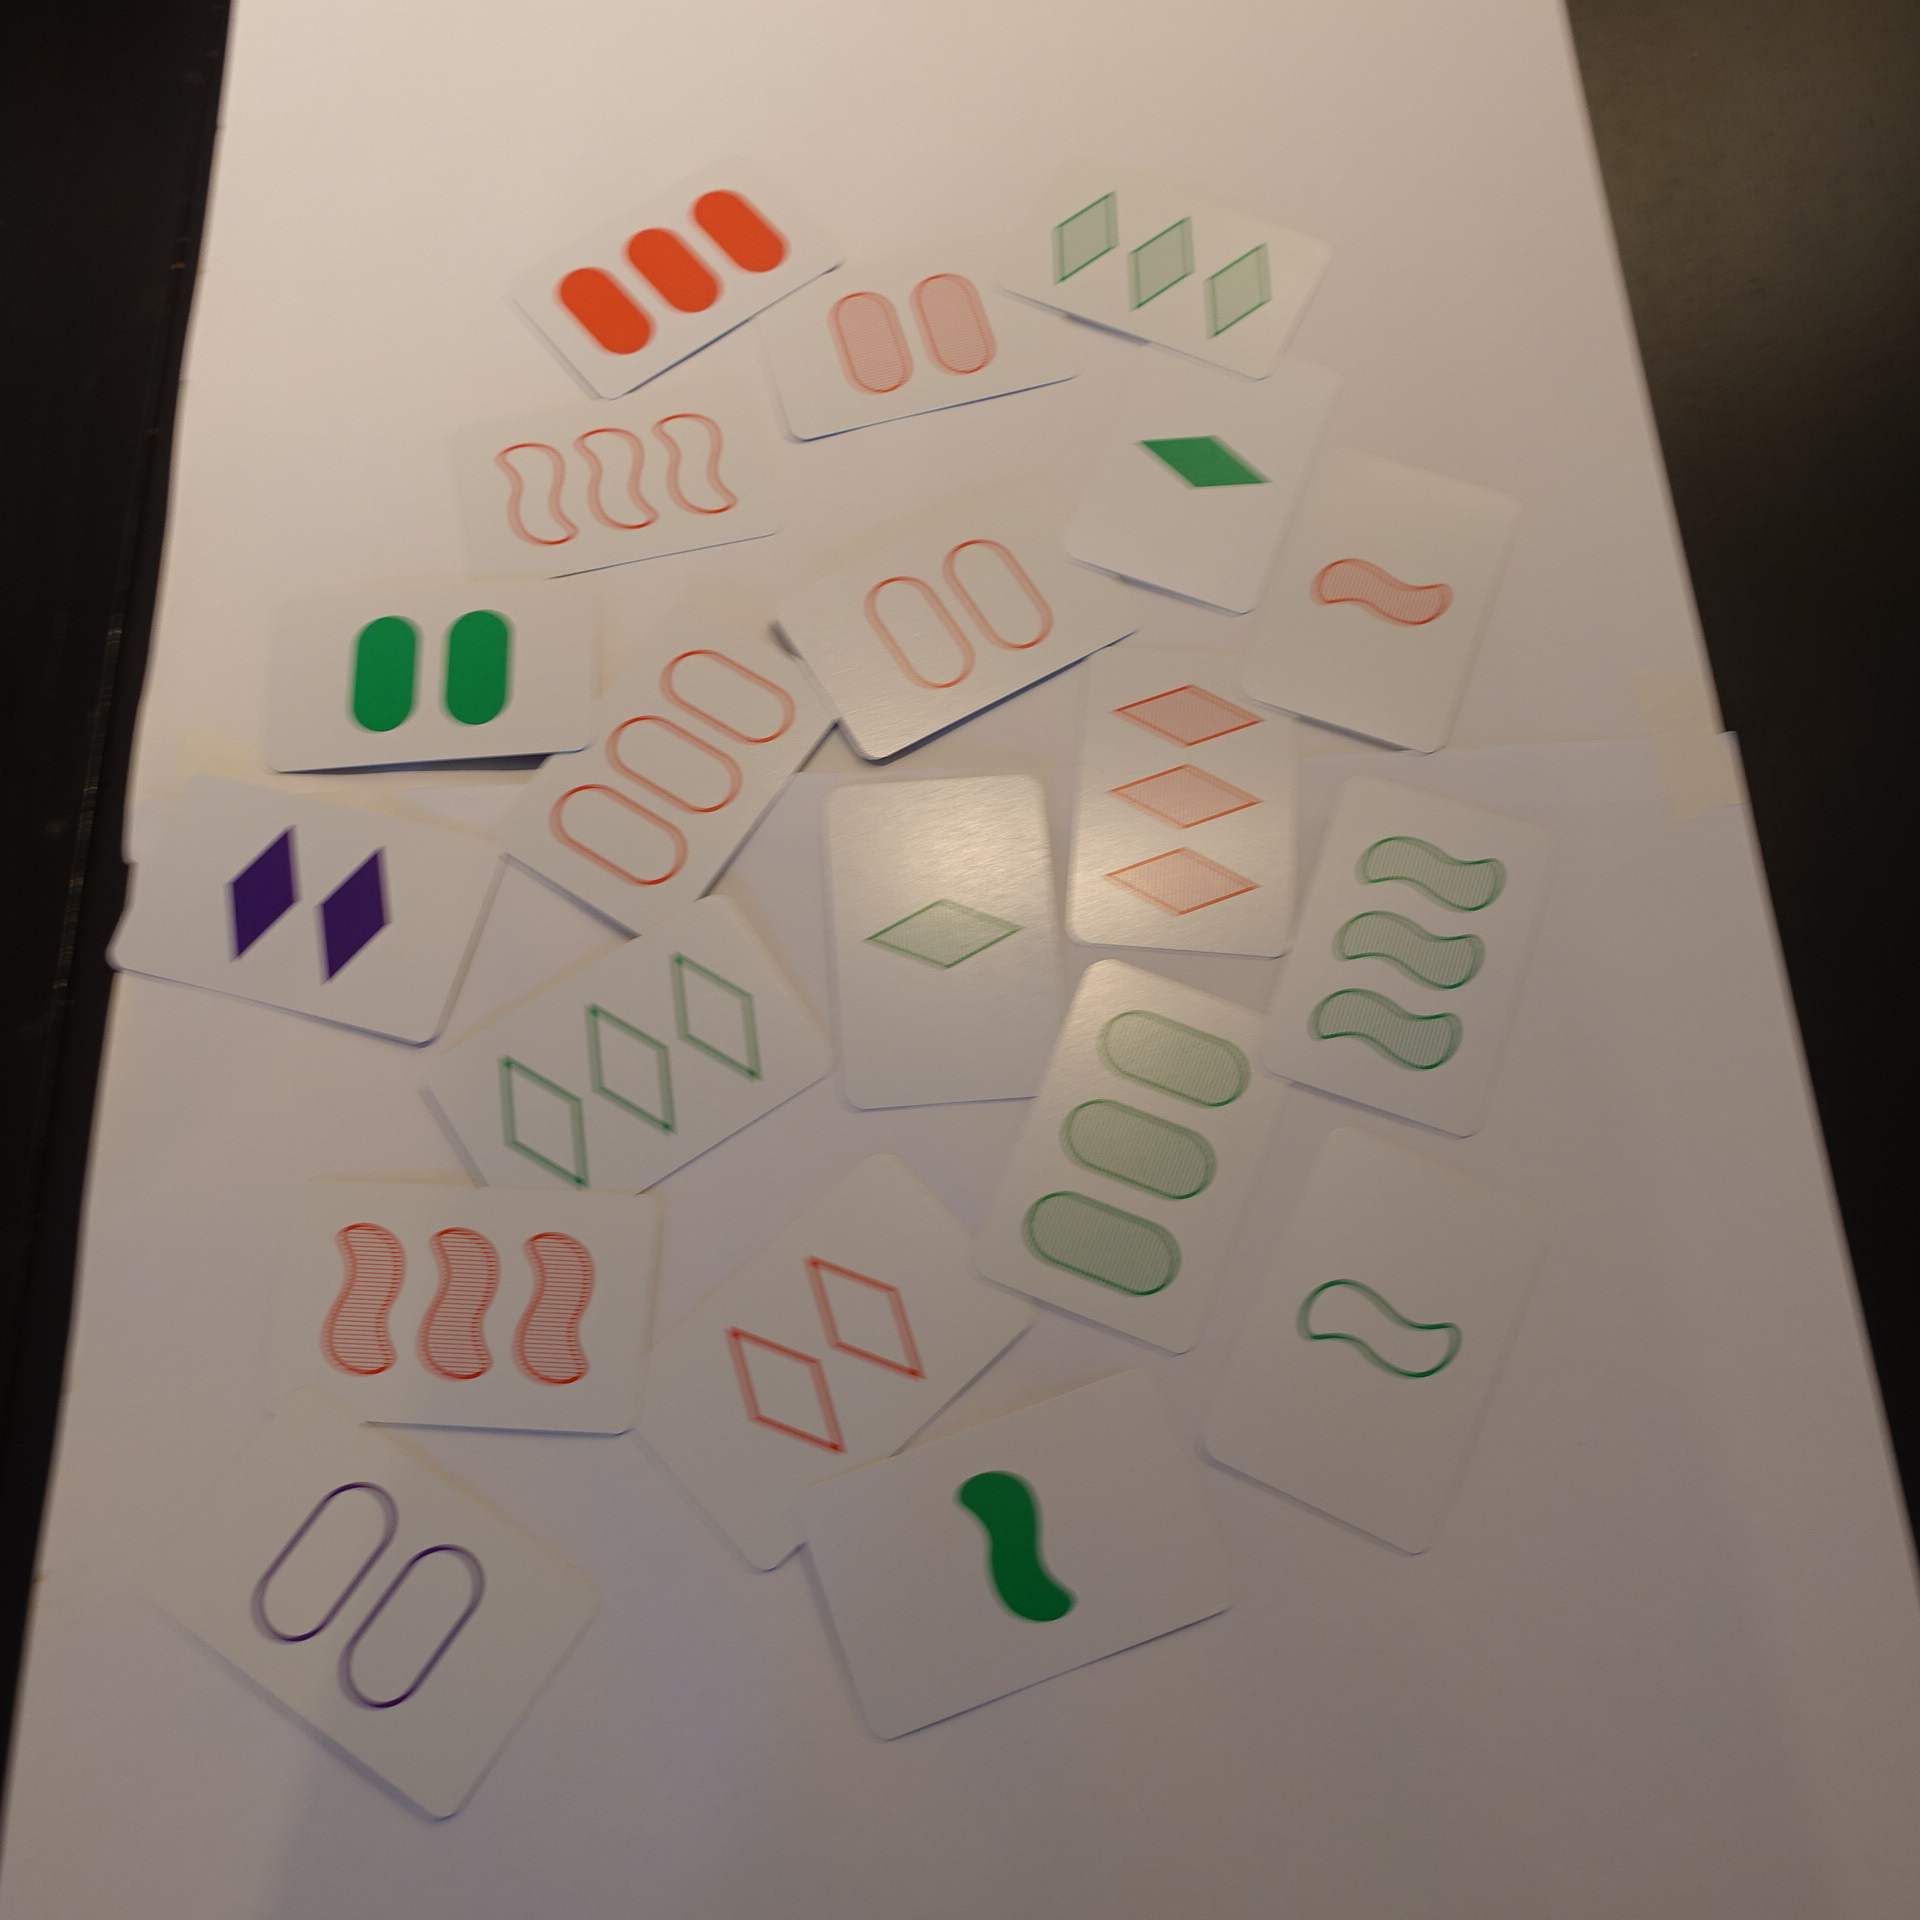c-1-f-d-g: (1051, 311, 1347, 622)
c-1-f-s-g: (782, 1357, 1245, 1751)
c-1-h-d-g: (811, 763, 1111, 1116)
c-1-h-s-g: (1220, 440, 1531, 768)
c-1-u-s-g: (1185, 1118, 1568, 1567)
c-2-f-d-g: (93, 761, 513, 1058)
c-2-f-o-g: (253, 573, 612, 781)
c-2-h-o-g: (747, 227, 1094, 452)
c-2-u-d-g: (600, 1138, 1050, 1577)
c-2-u-o-g: (130, 1371, 612, 1829), (775, 471, 1155, 767)
c-3-f-o-g: (492, 142, 855, 417)
c-3-h-d-g: (1058, 621, 1324, 971), (986, 149, 1342, 389)
c-3-h-o-g: (962, 956, 1308, 1363)
c-3-h-s-g: (1252, 760, 1574, 1152), (253, 1166, 668, 1444)
c-3-u-d-g: (417, 886, 842, 1240)
c-3-u-o-g: (482, 600, 856, 955)
c-3-u-s-g: (441, 373, 802, 600)
